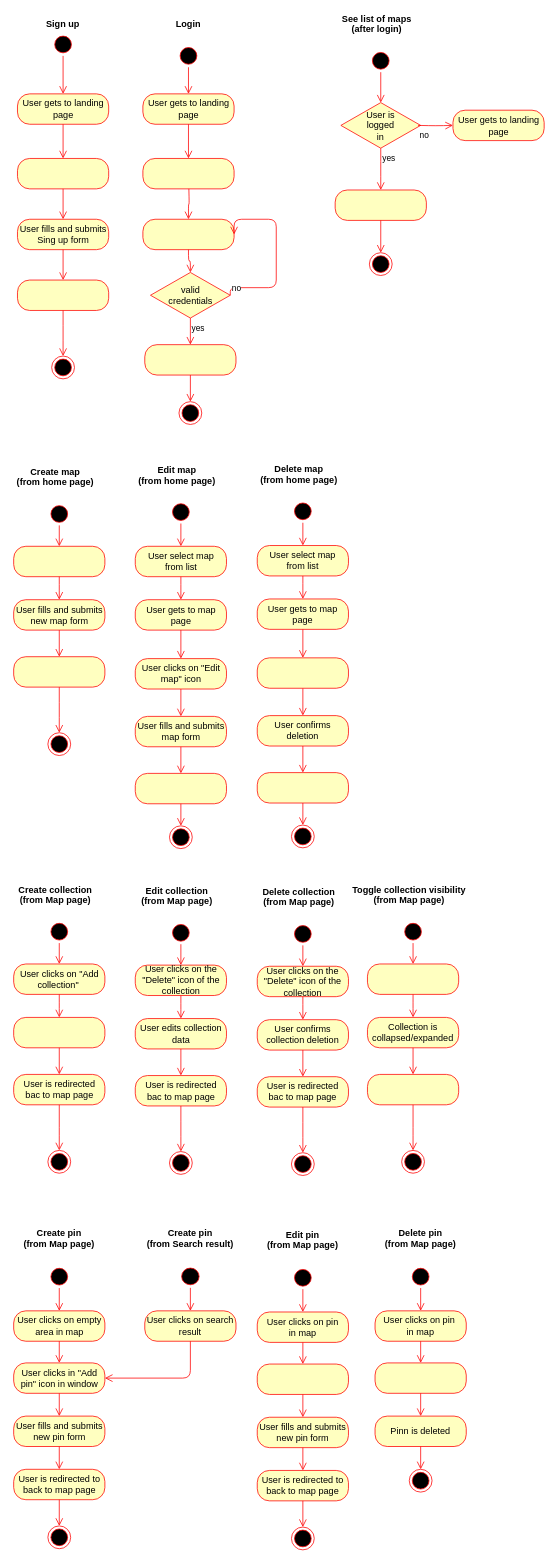
This 557x1563 diagram has some shape labels left out. The shapes that lost their labels are listed below. From the top down, each one's centre as x and y in pixels, then its label:
point (63, 173): User cliks on "Sing-Up"
point (188, 173): User cliks on "Sing-In"
point (380, 204): User sees his/her list of maps (map page)
point (188, 234): User enters login and password
point (63, 294): User is redirected to welcome page
point (190, 359): User is redirected to home page
point (59, 561): User clicks on "create map"
point (59, 671): User is redirected bac to home page
point (302, 672): User clicks on "Delete map" icon
point (180, 788): User is redirected back to map page
point (302, 787): User is redirected back to home page
point (413, 978): User clicks on the "Toggle visibility" icon of the collection
point (59, 1032): User fills collection data
point (413, 1089): Collection pins are shown/hidden in map
point (302, 1378): User clicks in "Edit pin" icon in window
point (420, 1377): User clicks in "Delete pin" icon in window
